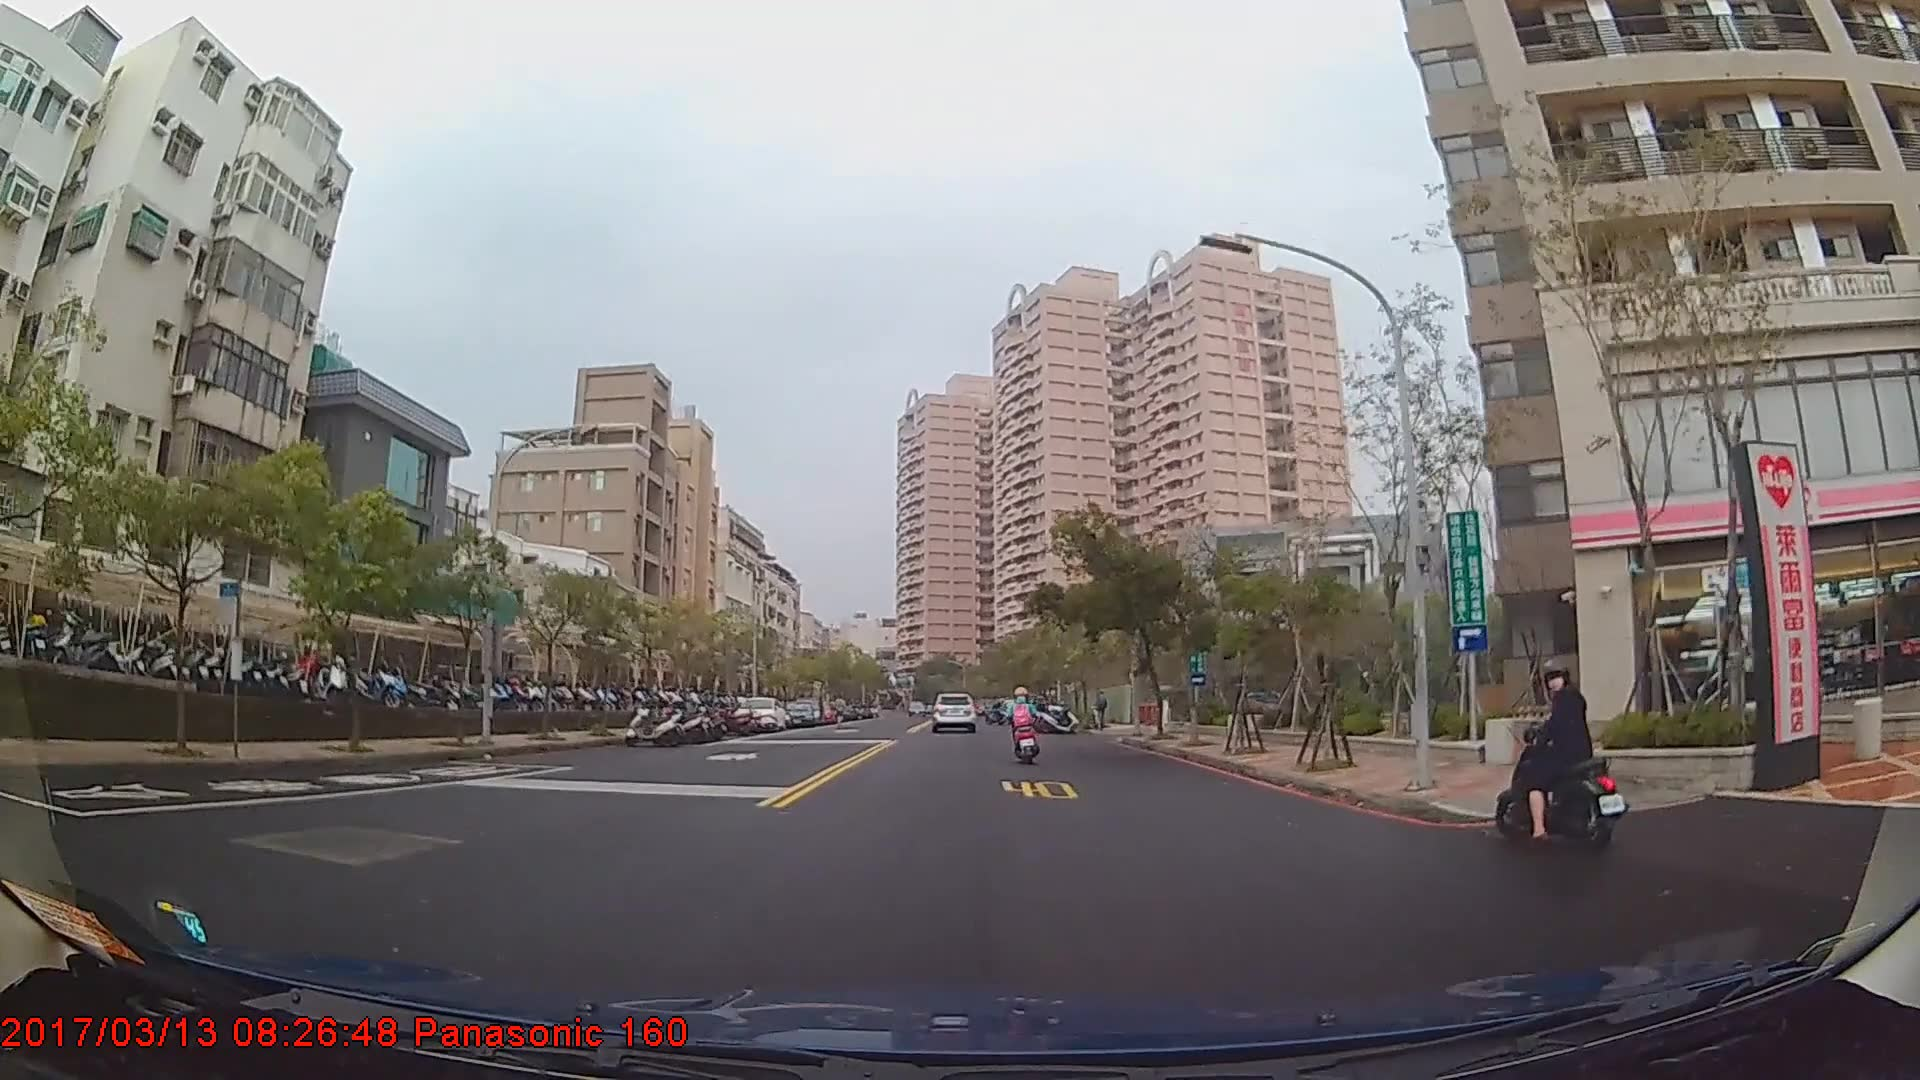rider: (1494, 646, 1639, 844), (1008, 690, 1044, 768)
vehicle: (732, 694, 789, 730), (928, 688, 979, 728), (783, 698, 816, 726)
